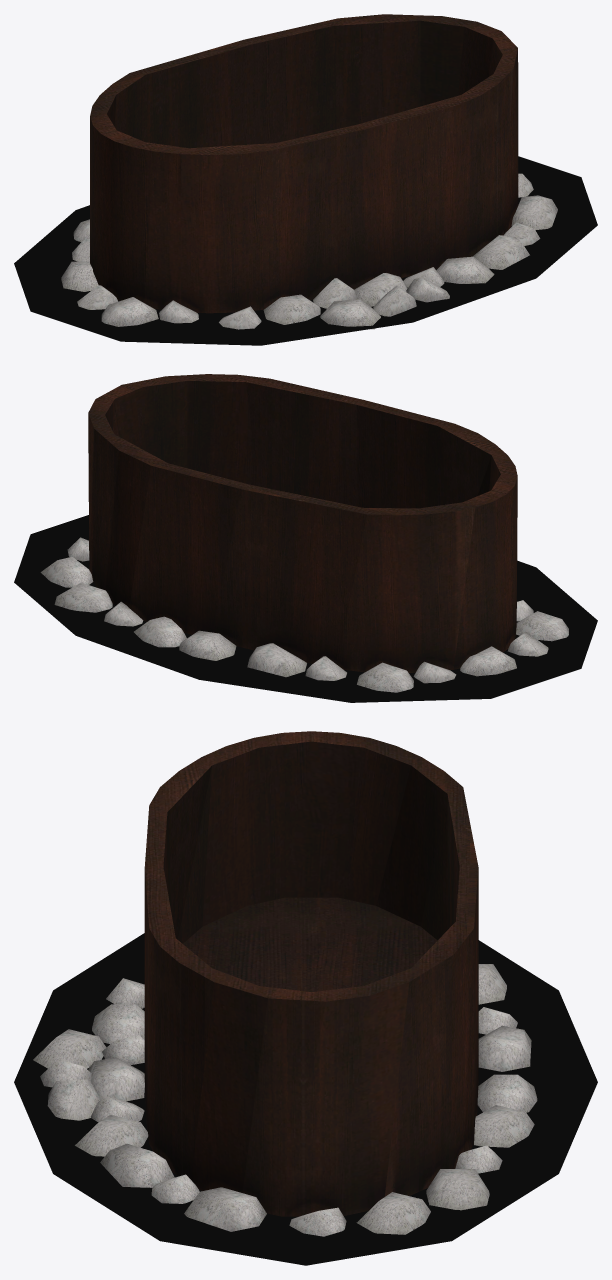
Rendered from jj_rixi_yuchi01.FBX.
3 renders of one model, top to bottom at view 1: azimuth 30°, elevation 25°; view 2: azimuth 150°, elevation 25°; view 3: azimuth 270°, elevation 25°, orthographic. The views are drawn at different scales.
Visible parts, largest first — view 1: jj_rixi_yuchi01, shadow; view 2: jj_rixi_yuchi01, shadow; view 3: jj_rixi_yuchi01, shadow.
Part boxes in pixels (bbox=[...]): jj_rixi_yuchi01: bbox=[61, 14, 557, 329]; shadow: bbox=[14, 156, 597, 345]; jj_rixi_yuchi01: bbox=[40, 374, 568, 692]; shadow: bbox=[14, 515, 597, 702]; jj_rixi_yuchi01: bbox=[33, 731, 537, 1236]; shadow: bbox=[14, 933, 597, 1265].
Size of the model in its own units: 267 by 74.37 by 179.
